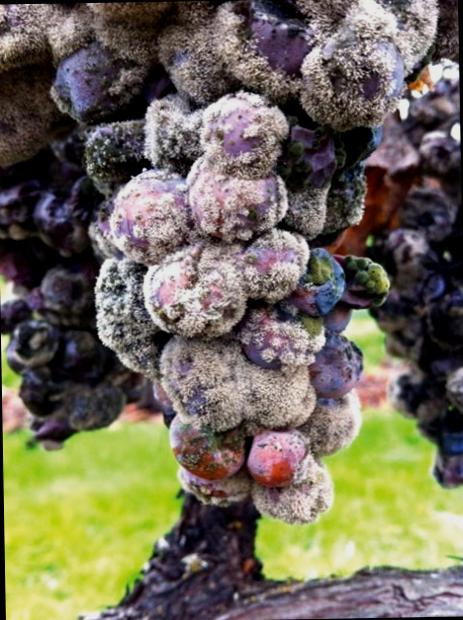Grape Rotten: (0, 0, 459, 531)
